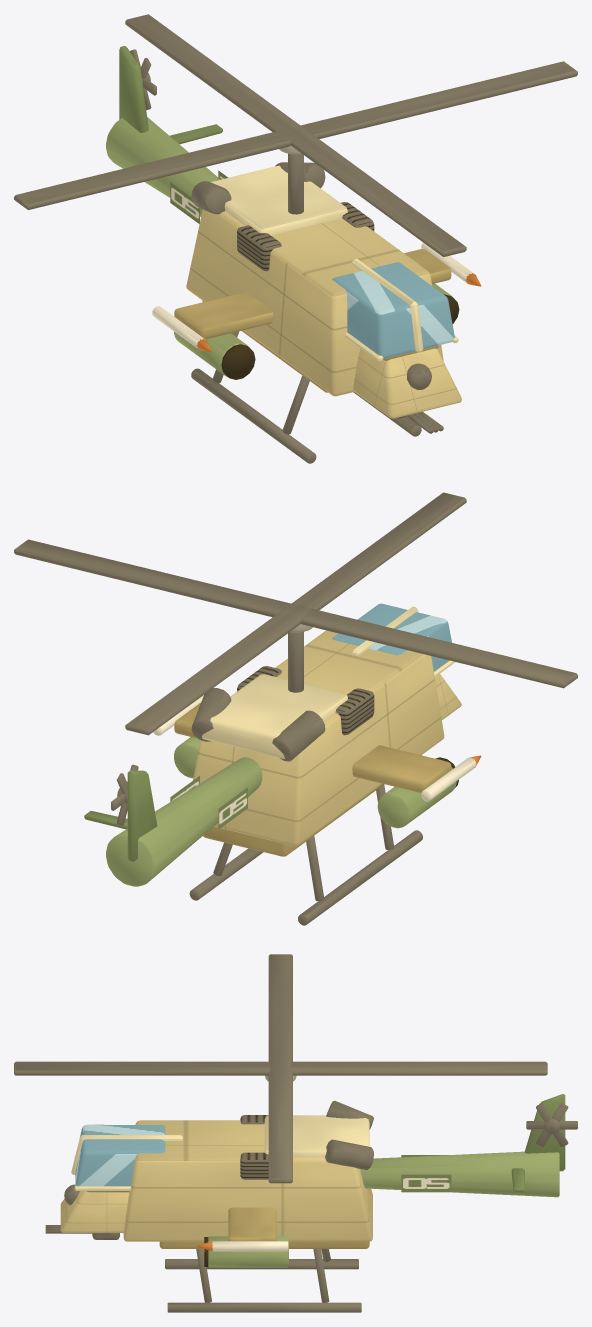
The model's file is helicopter.glb.
3 views of the same model, one above another, from view 1: azimuth 30°, elevation 25°; view 2: azimuth 150°, elevation 25°; view 3: azimuth 270°, elevation 25° (orthographic). The views are drawn at different scales.
Parts seen in each view (by area): view 1: AttackHelicopter_Body, MainRotor; view 2: AttackHelicopter_Body, MainRotor, TailRotor; view 3: AttackHelicopter_Body, MainRotor, TailRotor.
Boxes of the visible parts, x1,y1,x2,y2 form: AttackHelicopter_Body: (106, 46, 481, 463); MainRotor: (14, 14, 577, 256); AttackHelicopter_Body: (84, 603, 481, 925); MainRotor: (14, 492, 577, 735); TailRotor: (111, 764, 138, 825); AttackHelicopter_Body: (60, 1094, 565, 1312); MainRotor: (14, 954, 547, 1183); TailRotor: (526, 1103, 577, 1147).
Size of the model in its own units: 6.6 by 3.06 by 6.98.
2 materials, 1 textured.
